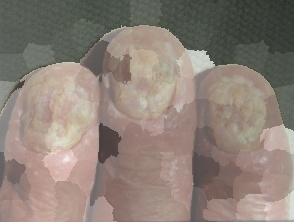Nail_psoriasis: (88, 21, 198, 147), (184, 58, 293, 183), (12, 56, 106, 184)
